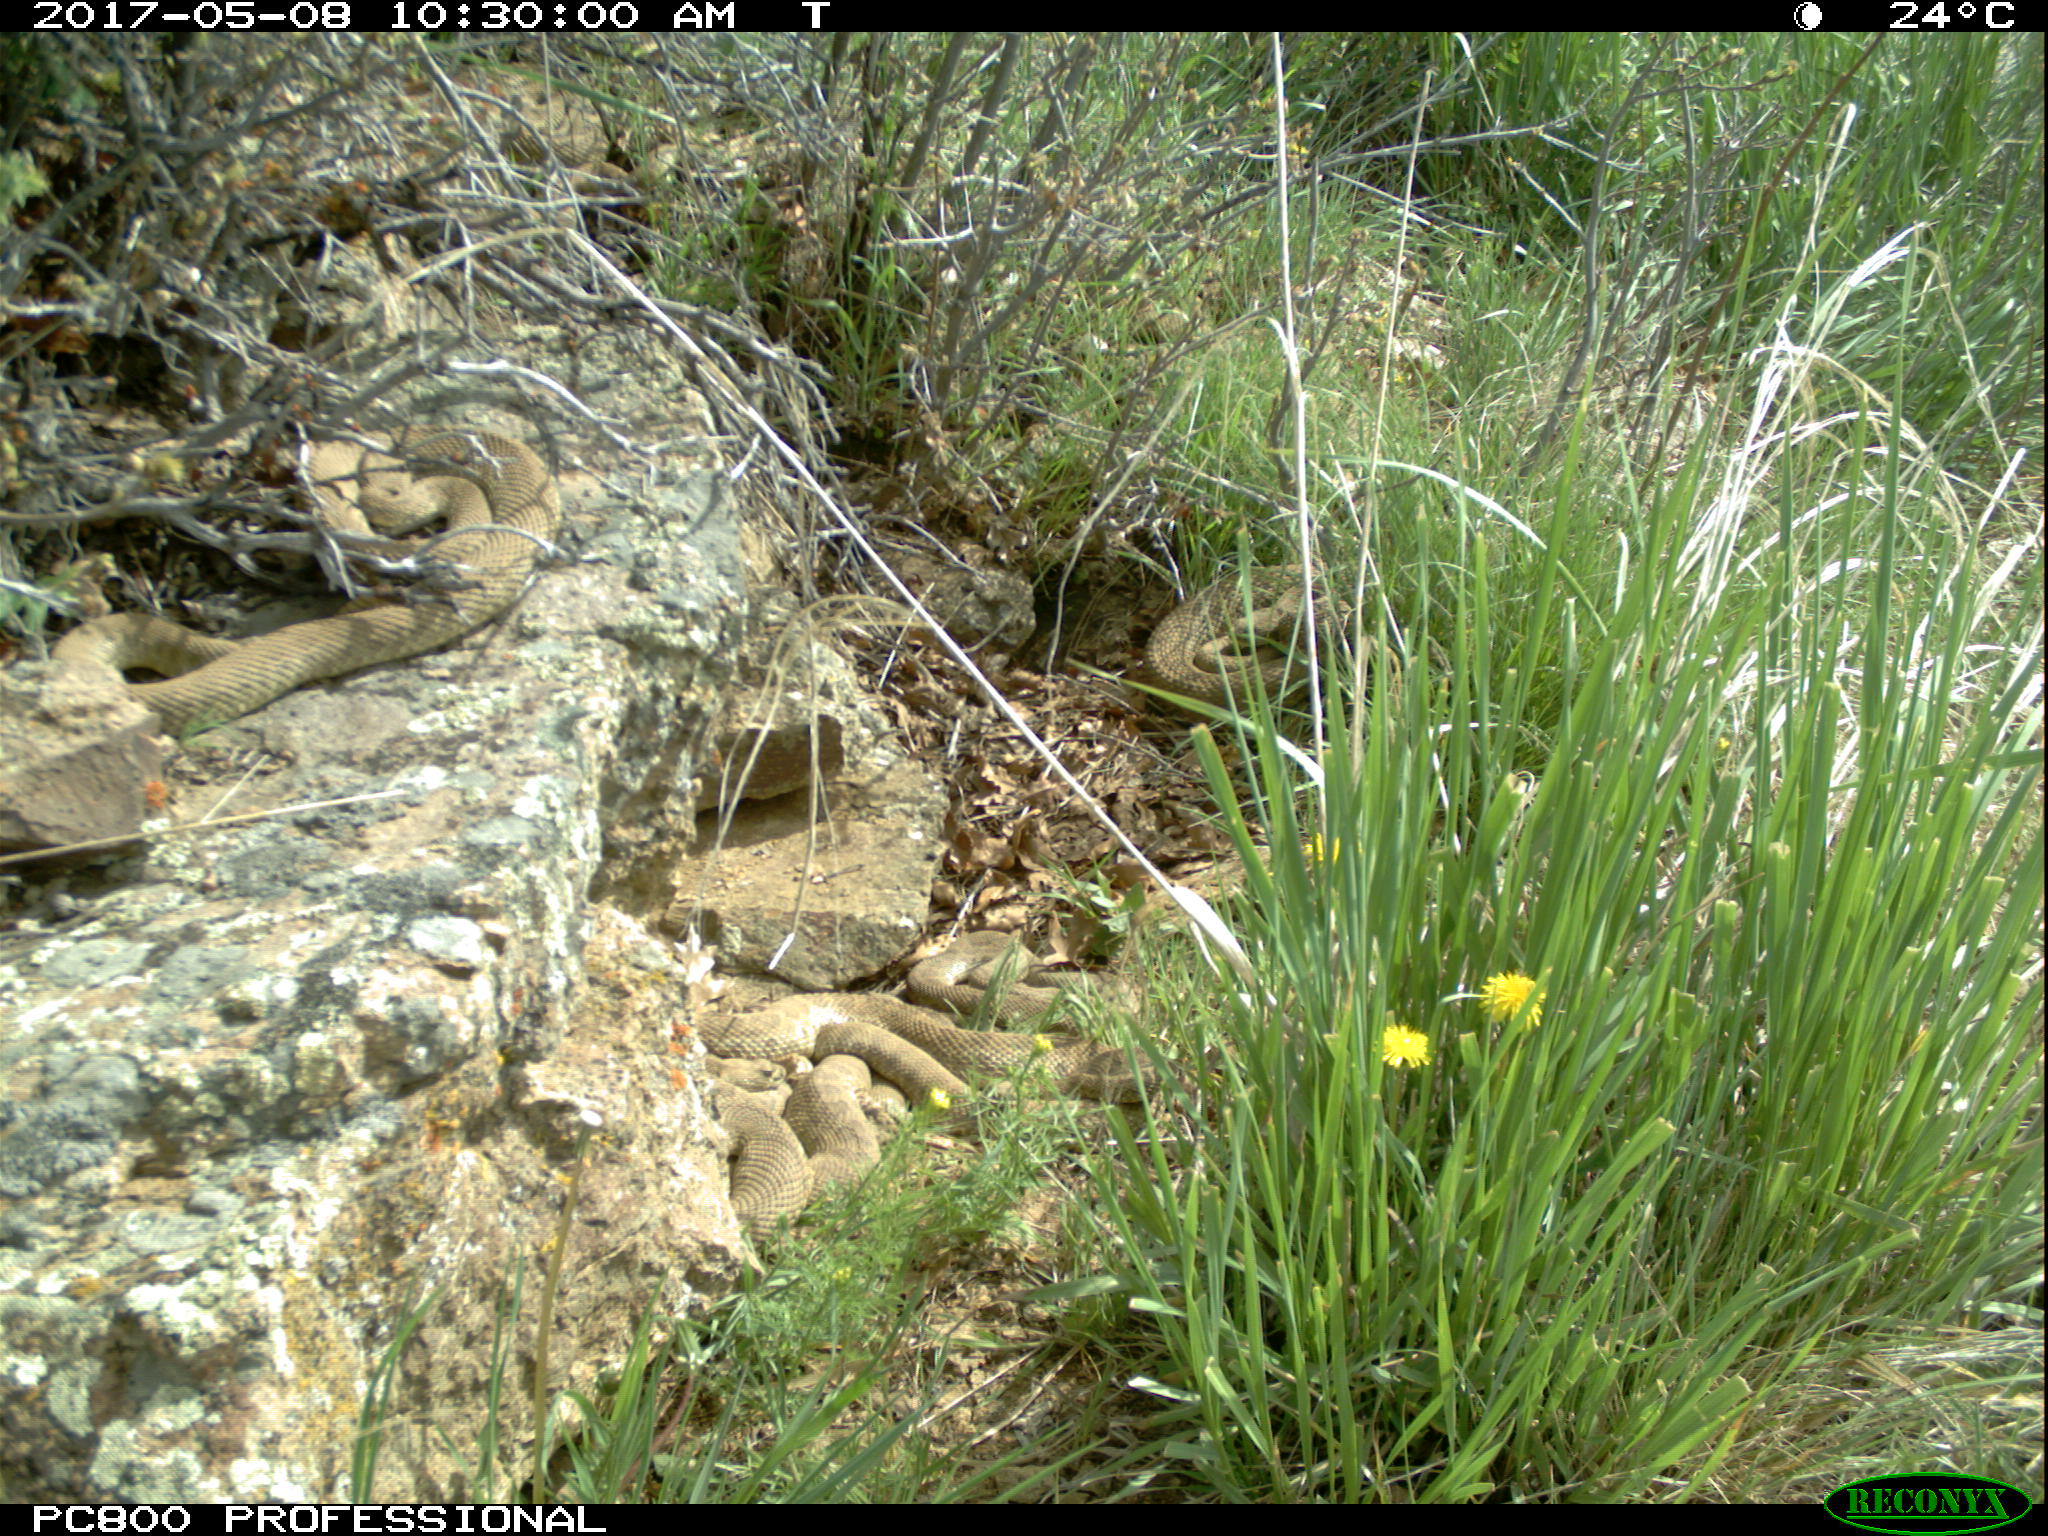snake: (45, 416, 584, 737), (703, 918, 1097, 1092), (692, 1029, 884, 1247), (1138, 557, 1397, 715)
